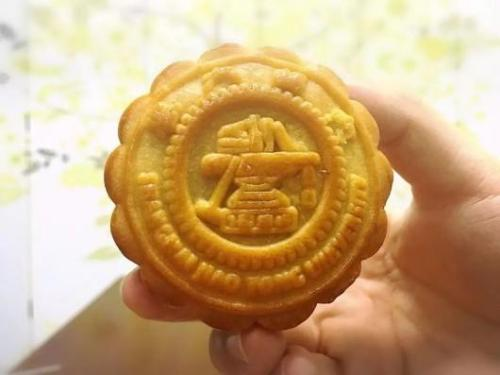MoonCake: (103, 40, 393, 332)
